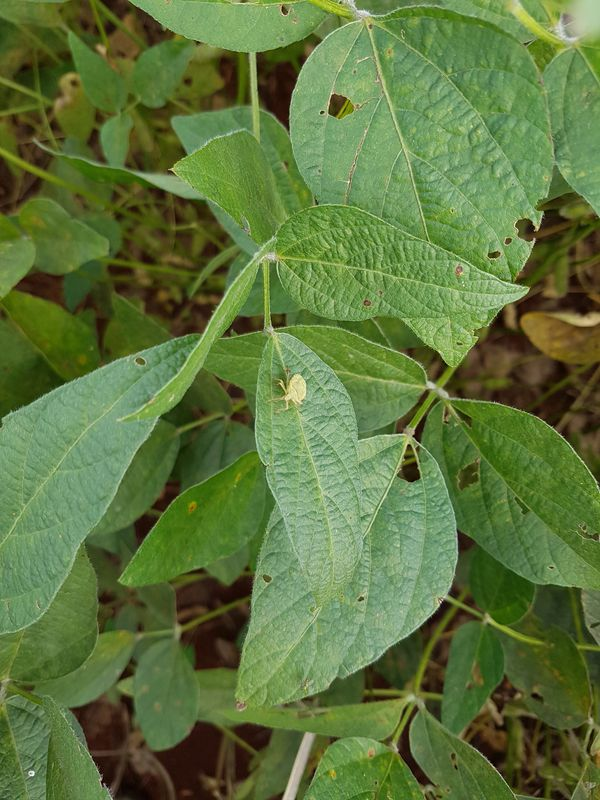Euschistus_heros_ninfa: (260, 363, 316, 421)
